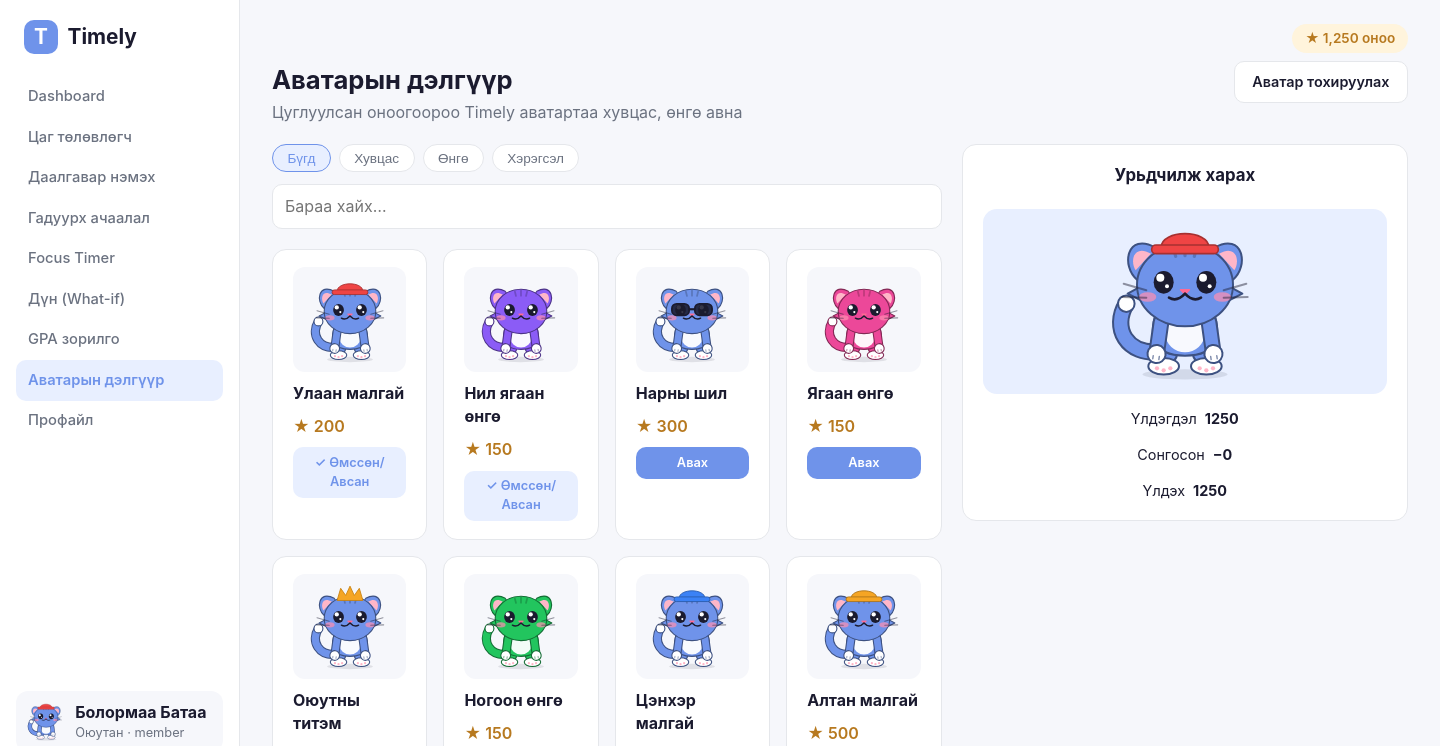
Scenario: TML-SHOP — дэлгүүр › member: оноогоор бараа авч, үлдэгдэл буурна
Click the button with test id "buy-S03" at (692, 463), box [636,448,749,479]
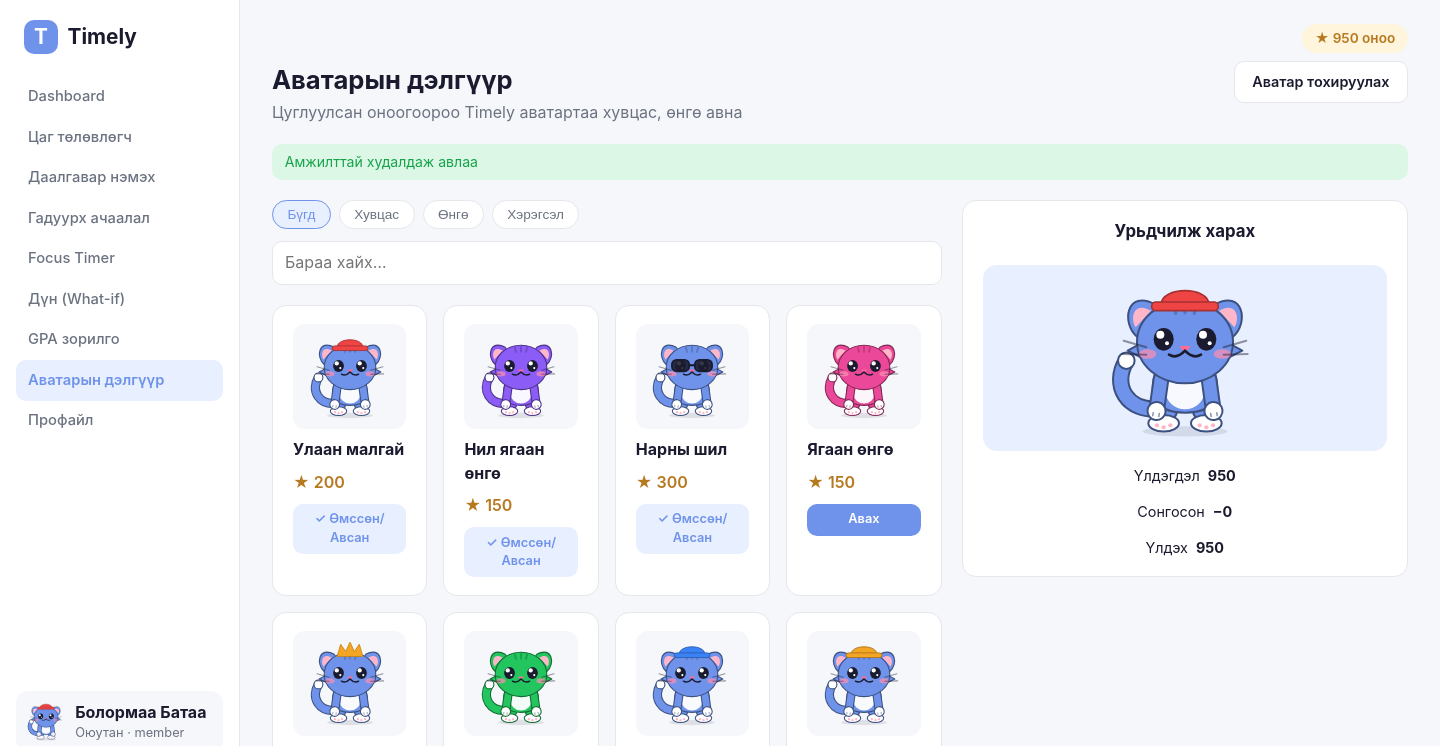
Check: the message "Амжилттай худалдаж авлаа" is shown, box [272,144,1408,180]
Check: the button with test id "buy-S03" is gone
